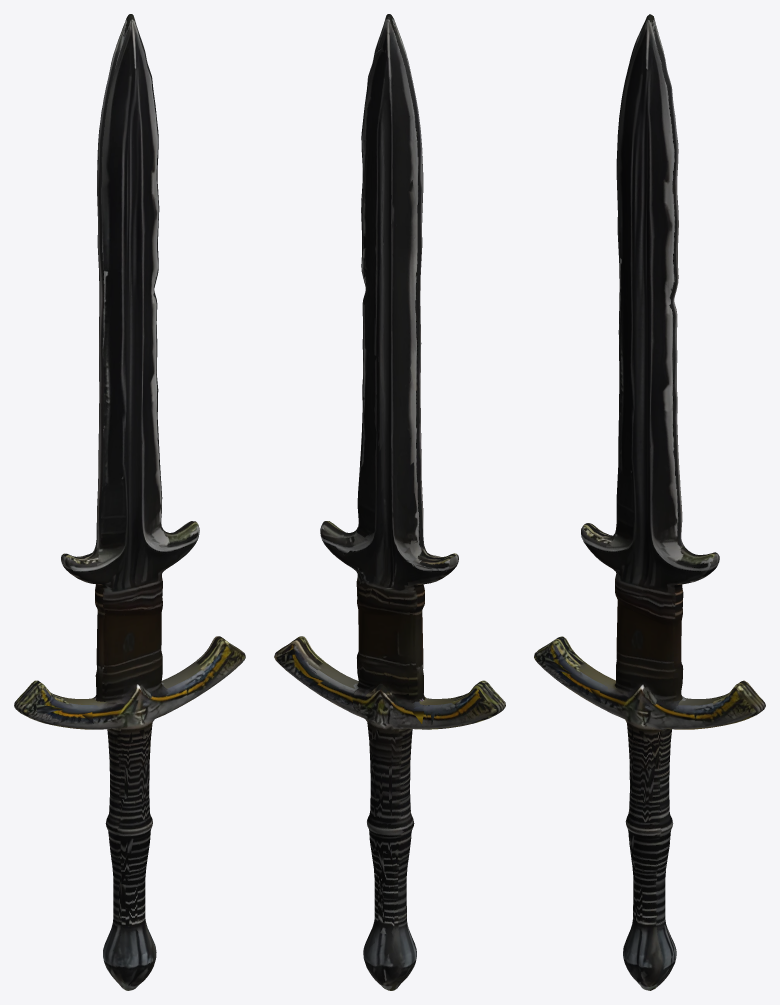
File: zweihander.glb
3 views of the same model, side by side, from view 1: azimuth 30°, elevation 25°; view 2: azimuth 150°, elevation 25°; view 3: azimuth 330°, elevation 25° (orthographic).
Parts seen in each view (by area): view 1: Zweihander; view 2: Zweihander; view 3: Zweihander.
Boxes of the visible parts, left/top/right/bottom form: Zweihander: left=14, top=14, right=245, bottom=990; Zweihander: left=274, top=14, right=505, bottom=990; Zweihander: left=534, top=14, right=765, bottom=990.
Size of the model in its own units: 0.4011 by 1.65 by 0.0762.
Materials: 1 (1 with a texture image).
